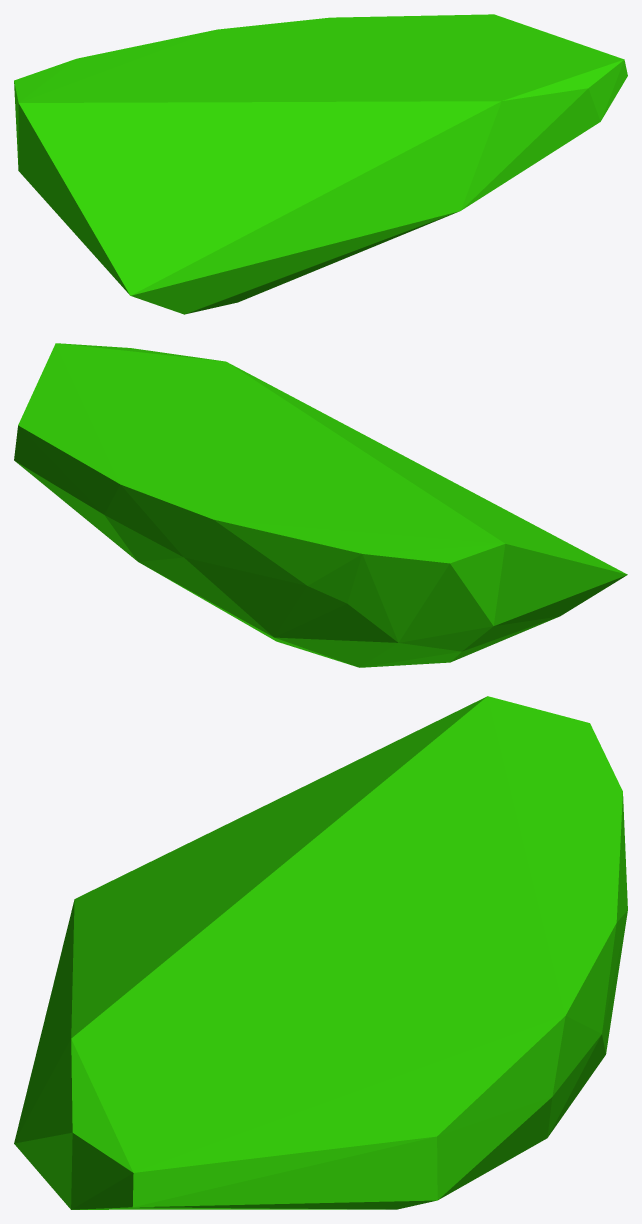
The model's file is hip-roll-housing-mirror_convex_piece_000.obj.
3 views of the same model, one above another, from view 1: azimuth 30°, elevation 25°; view 2: azimuth 150°, elevation 25°; view 3: azimuth 270°, elevation 25° (orthographic). The views are drawn at different scales.
Size of the model in its own units: 0.1571 by 0.0431 by 0.0884.
